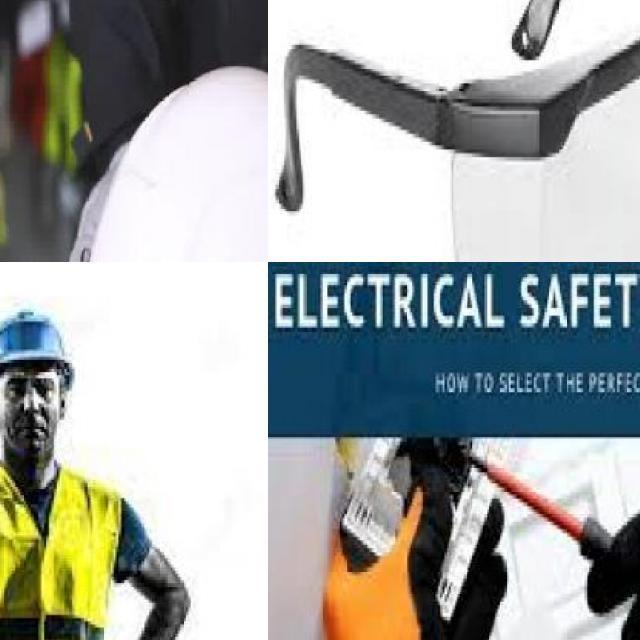apron: (318, 459, 519, 640)
